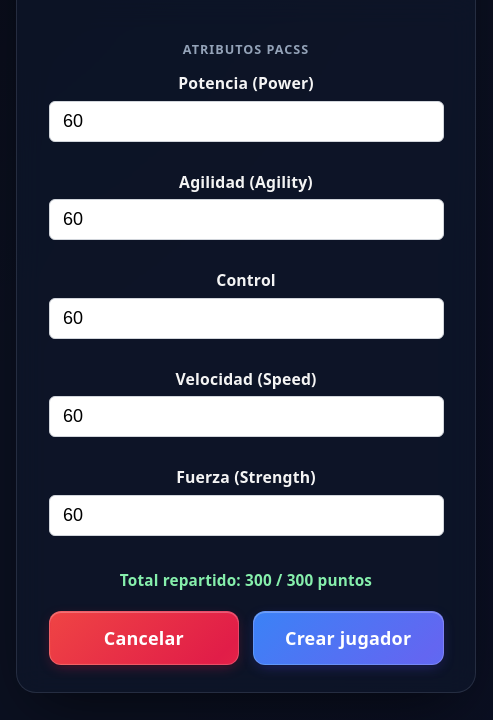
Test: CreatePlayerPage › Validaciones del frontend › Con campos vacíos muestra los errores y no llama al backend
The image size is (493, 720).
(page scrolled)
Click the button "Crear jugador".
click(348, 638)  # box [253,612,444,665]
(page scrolled)
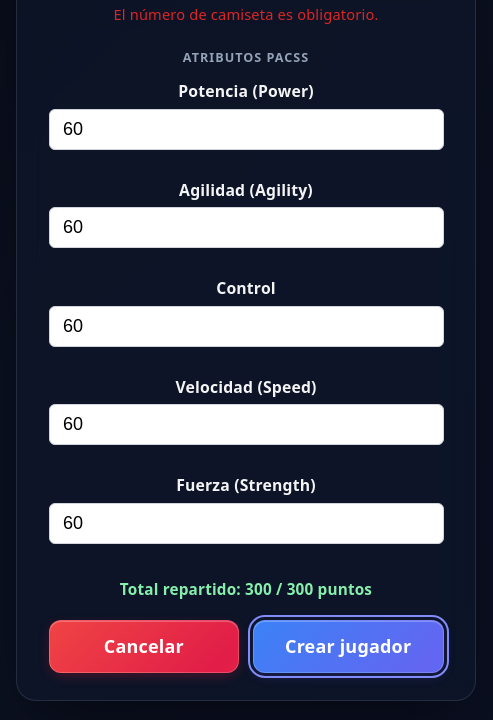
Expected: the text "El número de camiseta es obligatorio." is shown, [113,4,378,24]
